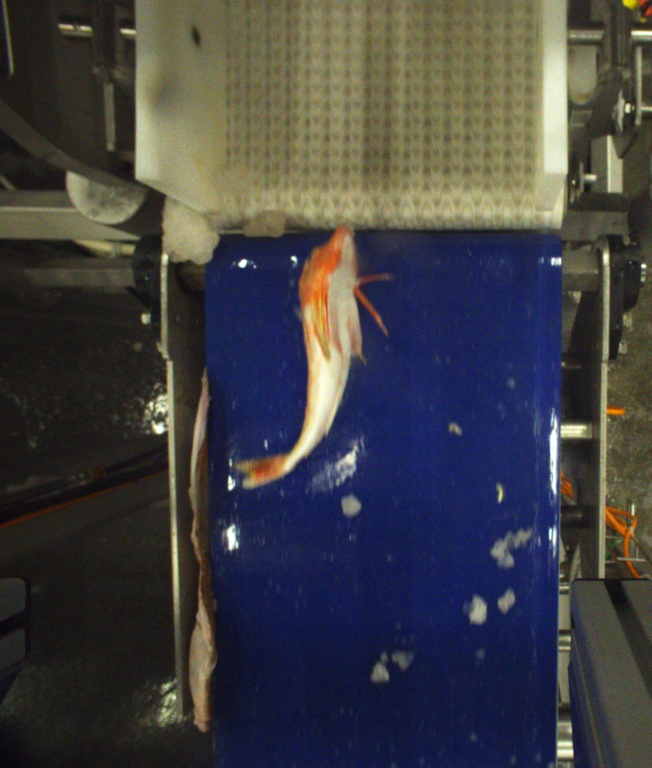GUU: (234, 227, 393, 492)
